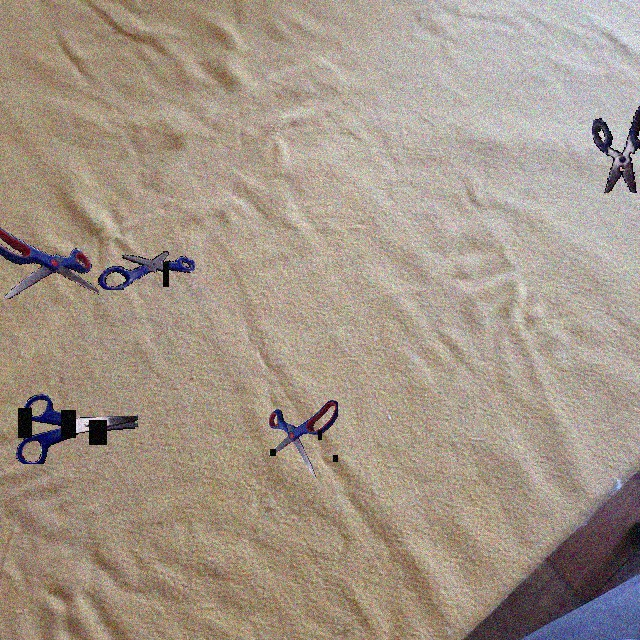scissors: (16, 394, 138, 464), (0, 225, 99, 299), (269, 400, 338, 478), (592, 101, 640, 193), (98, 251, 195, 290)
